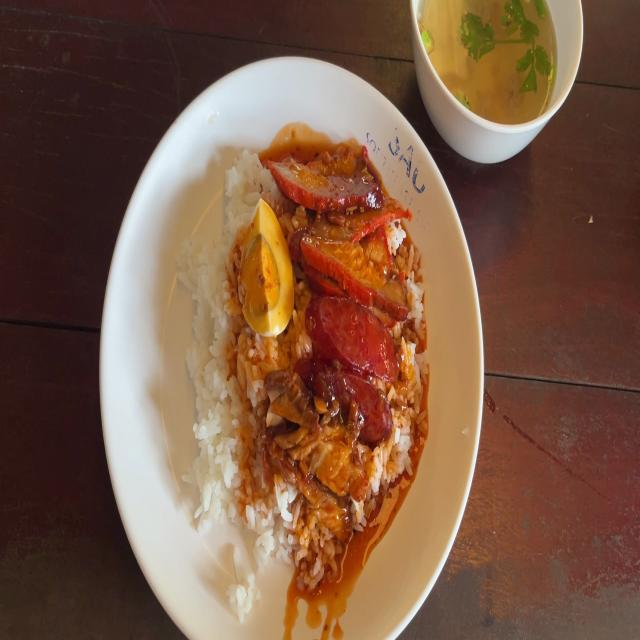01boiled_egg: (244, 211, 292, 334)
01chainese_sausage: (309, 321, 391, 427)
01crispy_pork: (289, 438, 377, 524), (259, 381, 309, 466)
01red_pork: (302, 208, 398, 299), (295, 146, 387, 240)
01red_pork_and_crispy_pork: (191, 154, 421, 546)
01rice: (195, 226, 241, 519), (229, 344, 276, 610)
